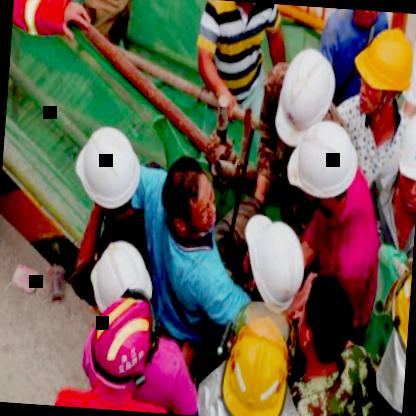head: (294, 268, 364, 378), (158, 152, 225, 241)
helmet: (344, 13, 416, 140), (215, 309, 299, 416), (76, 247, 159, 353), (284, 112, 364, 219), (73, 120, 150, 224), (238, 210, 310, 312), (276, 48, 342, 148), (378, 254, 414, 382), (393, 101, 416, 216)
